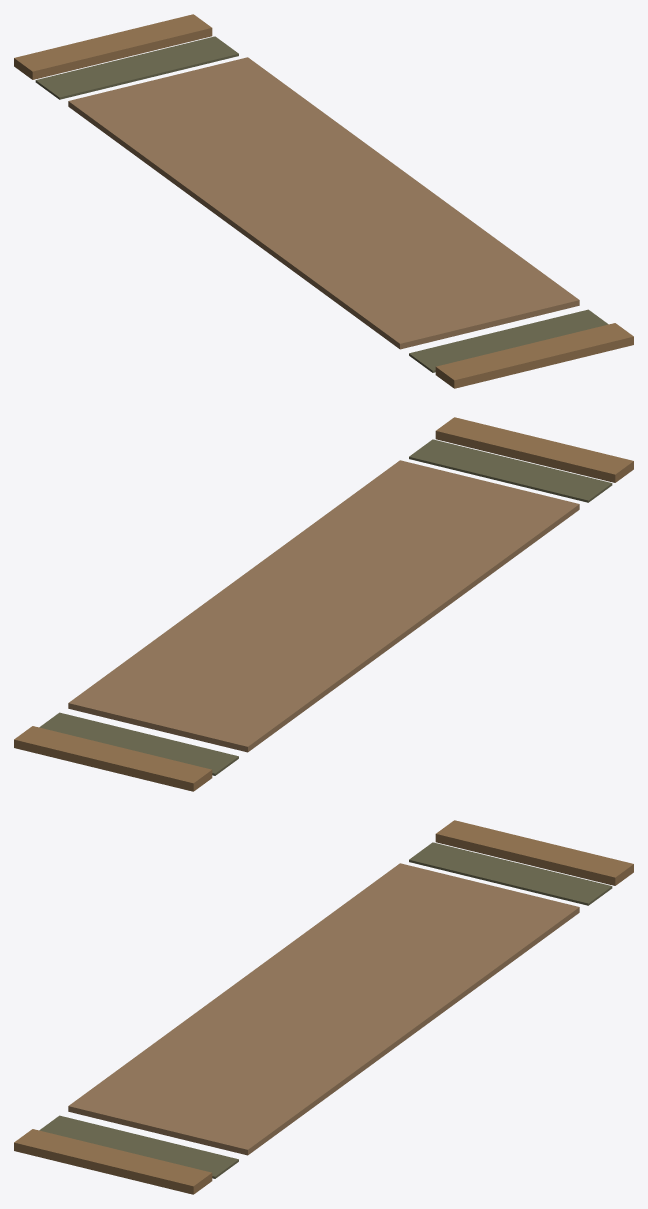
Rendered from road-normal.glb.
3 renders of one model, top to bottom at view 1: azimuth 30°, elevation 25°; view 2: azimuth 150°, elevation 25°; view 3: azimuth 330°, elevation 25°, orthographic.
Parts seen in each view (by area): view 1: road; view 2: road; view 3: road.
Boxes of the visible parts, left/top/right/bottom form: road: left=14, top=14, right=633, bottom=388; road: left=14, top=417, right=633, bottom=791; road: left=14, top=820, right=633, bottom=1194.
Size of the model in its own units: 1 by 0.0475 by 4.25.
